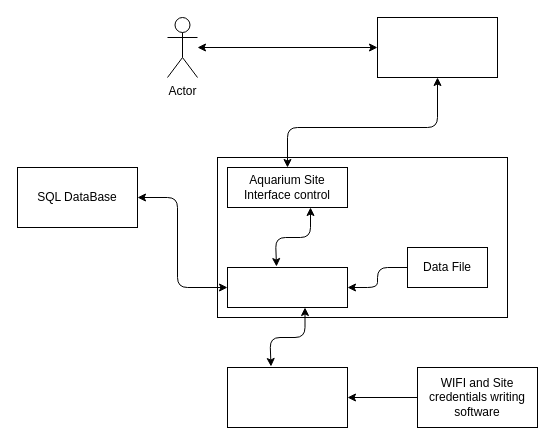
Some shapes in this 555 by 445 pixel diagram are drawn without their labels. The shapes that lost their labels are listed below. From the top down, each one's centre as x and y in pixels, then its label:
the point at 437,47: Aquarium Site
the point at 287,287: DataBase and Site Control
the point at 287,397: Arduino Controller
